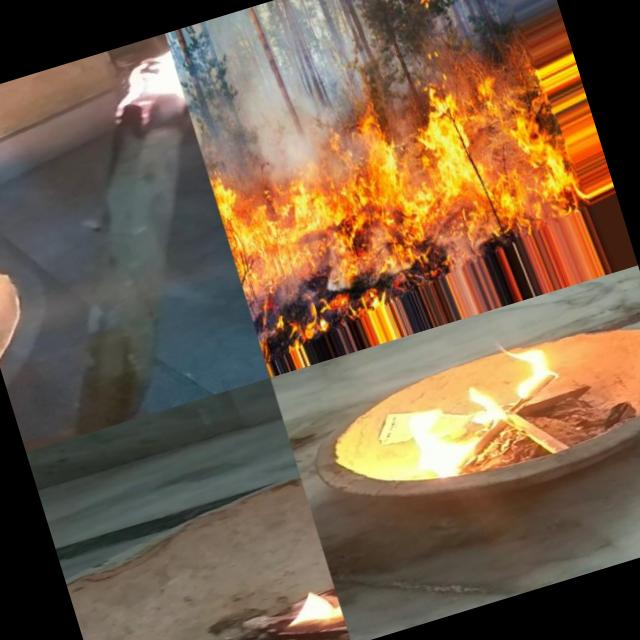fire: (204, 59, 578, 314), (346, 324, 602, 504), (76, 33, 197, 165)
